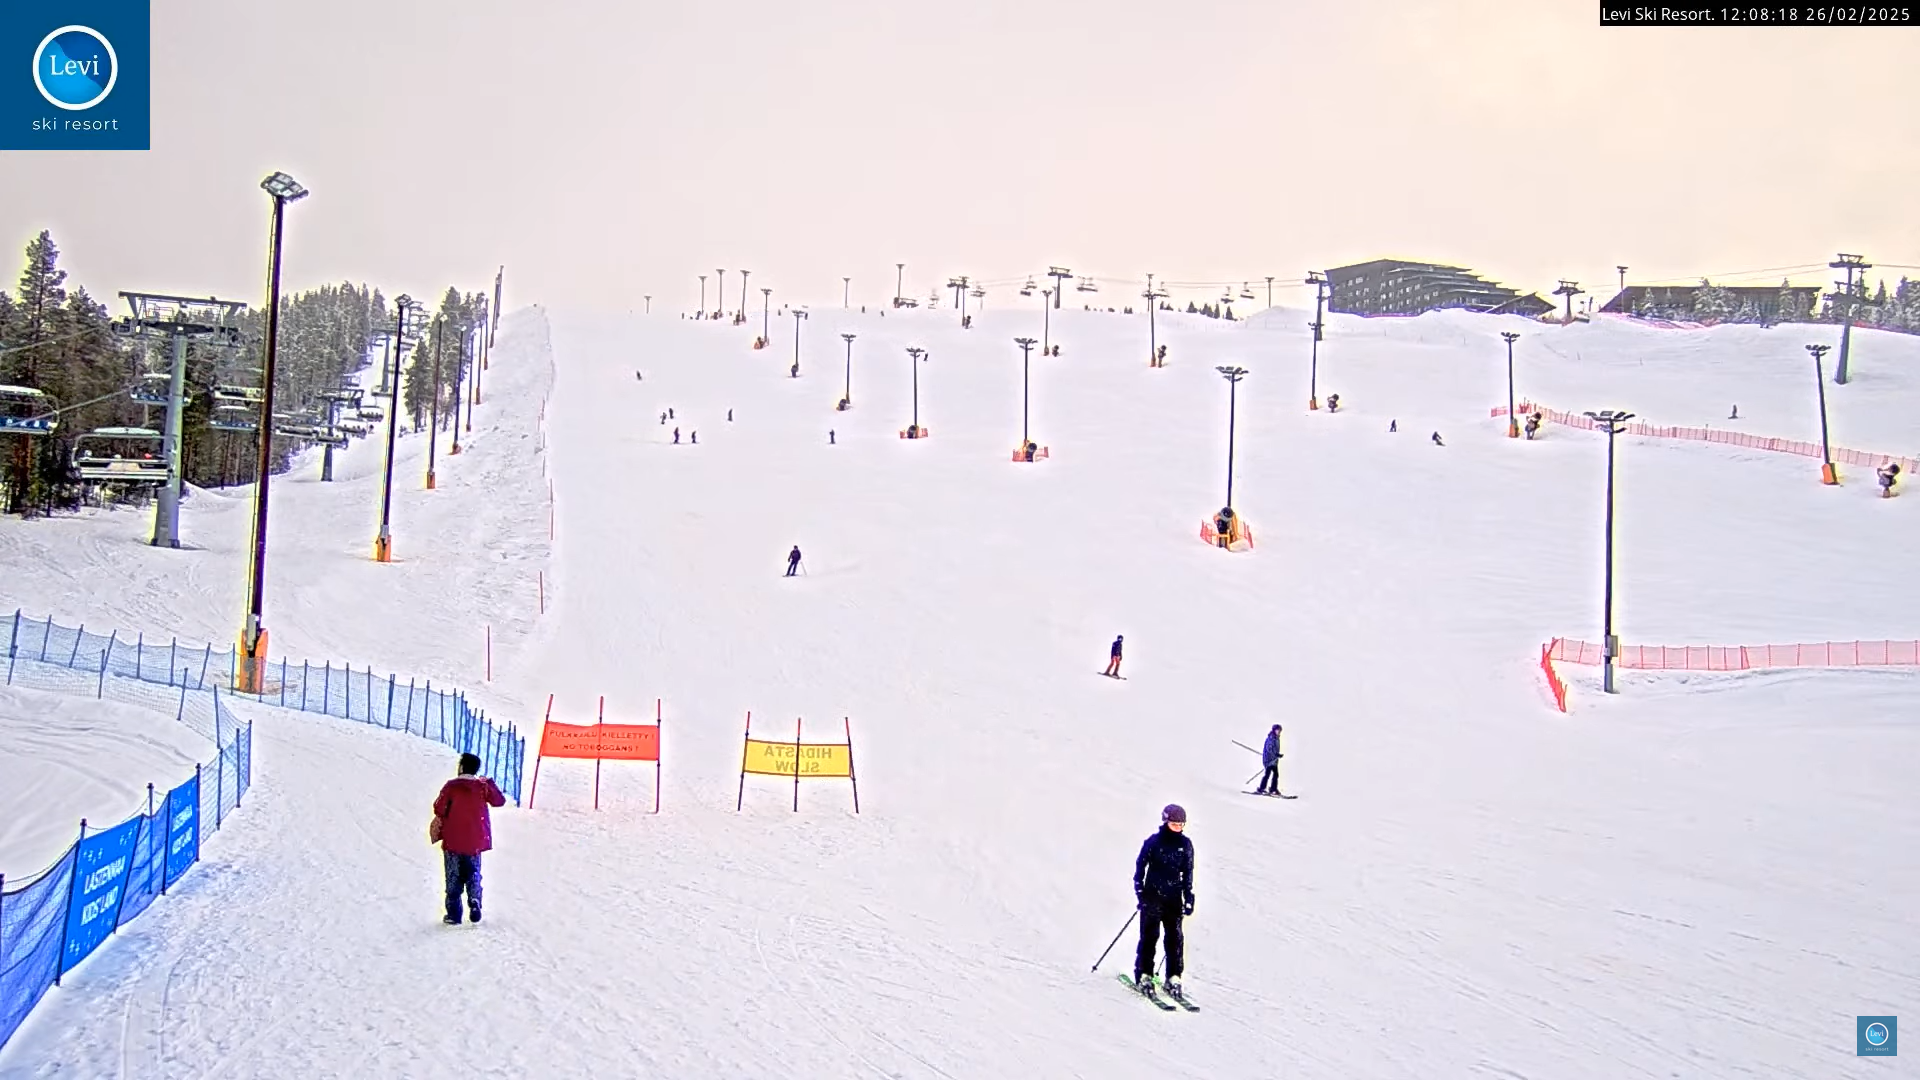skier: (1093, 804, 1211, 1018), (1230, 717, 1298, 803), (777, 542, 812, 576)
